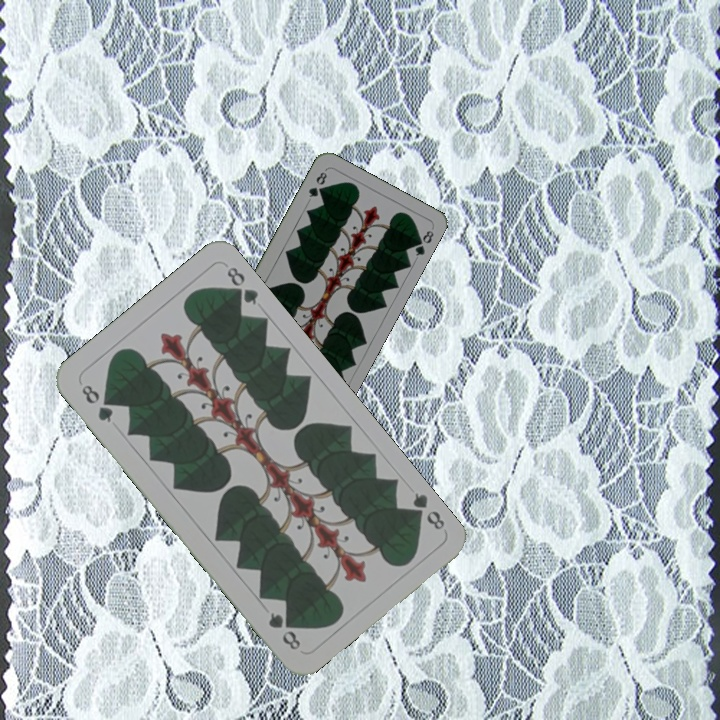G8: (404, 488, 448, 533), (77, 380, 116, 426), (304, 167, 330, 200)
